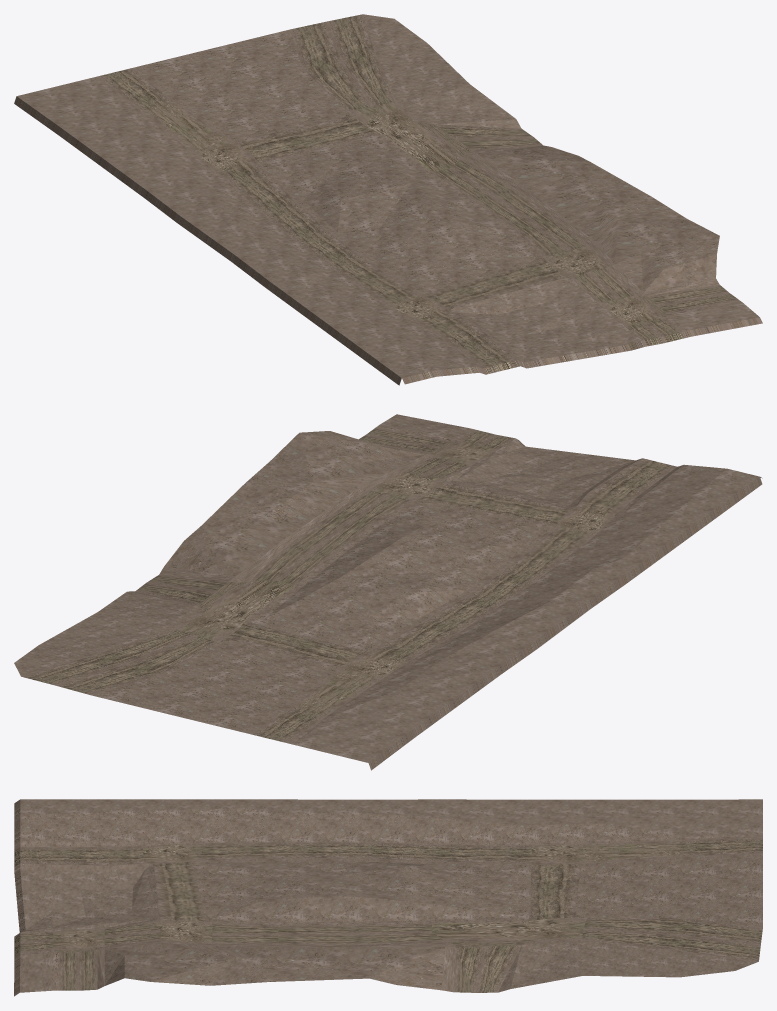
The model's file is vgsecnstrct02.obj.
3 views of the same model, one above another, from view 1: azimuth 30°, elevation 25°; view 2: azimuth 150°, elevation 25°; view 3: azimuth 270°, elevation 25° (orthographic). The views are drawn at different scales.
Parts seen in each view (by area): view 1: vgsEcnstrct02; view 2: vgsEcnstrct02; view 3: vgsEcnstrct02.
Part boxes in pixels (x1,y1,x2,y2): vgsEcnstrct02: (14, 14, 762, 385); vgsEcnstrct02: (14, 414, 762, 770); vgsEcnstrct02: (14, 799, 762, 996).
Size of the model in its own units: 42.54 by 3.15 by 73.74.
Materials: 4 (4 with a texture image).
